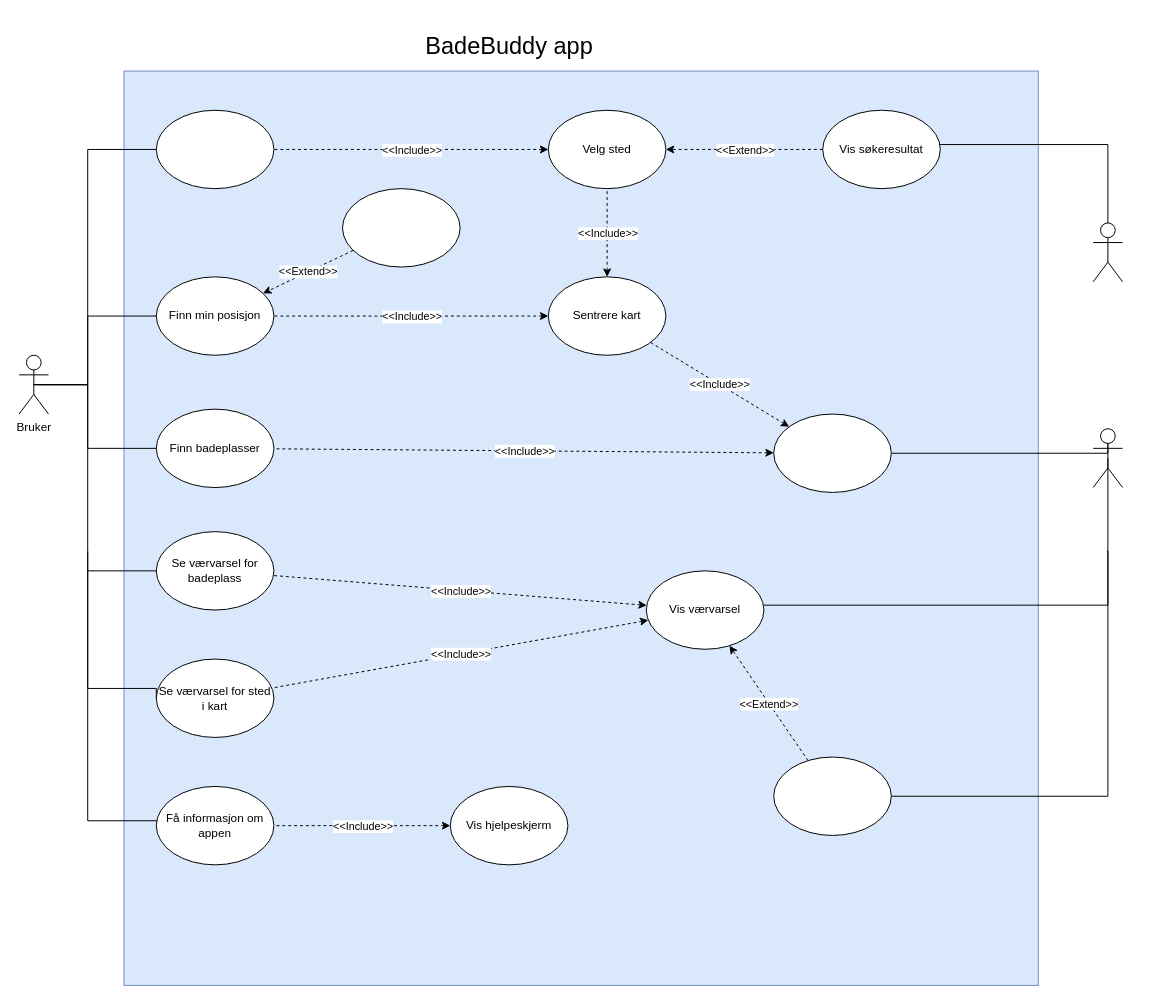
Image size: 1165x1003. Some labels were removed from this diagram. The centre of each missing label's shape, as x and y in pixels:
"API-leverandør" belongs at [1107,458].
"Kart-leverandør" belongs at [1107,252].
"Søk etter sted" belongs at [214,149].
"Vis badeplass i kart" belongs at [832,452].
"Vis beskjed om posisjon ikke funnet" belongs at [401,227].
"Vis farevarsel" belongs at [832,795].
